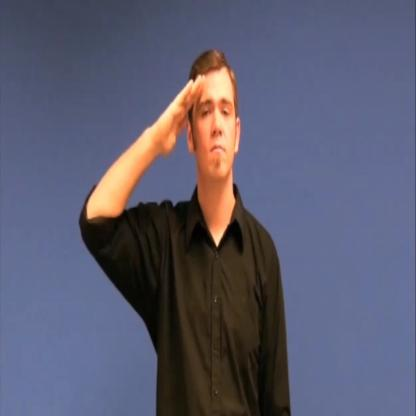Hello: (146, 39, 254, 235)
